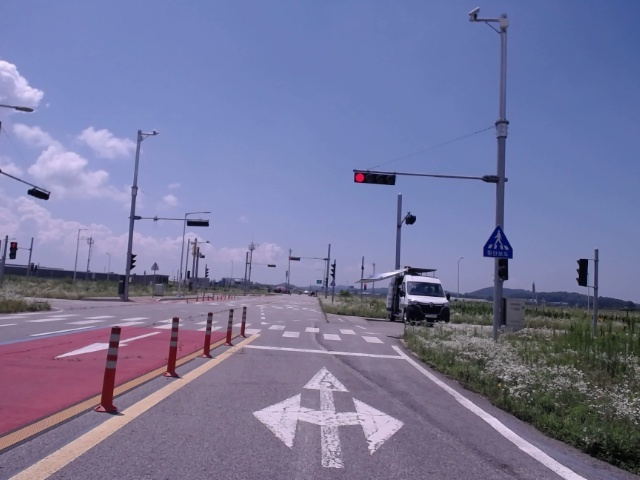red_4: (354, 173, 395, 184)
